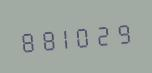eight: (17, 25, 35, 56), (36, 23, 54, 54)
nine: (113, 16, 131, 48)
one: (56, 21, 74, 53)
two: (94, 18, 112, 49)
zero: (75, 20, 93, 51)
